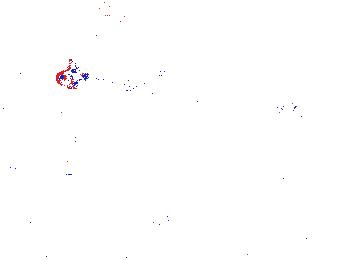glassfish: (203, 139, 307, 210)
red belly glassfish: (250, 99, 299, 119), (55, 68, 90, 89)
